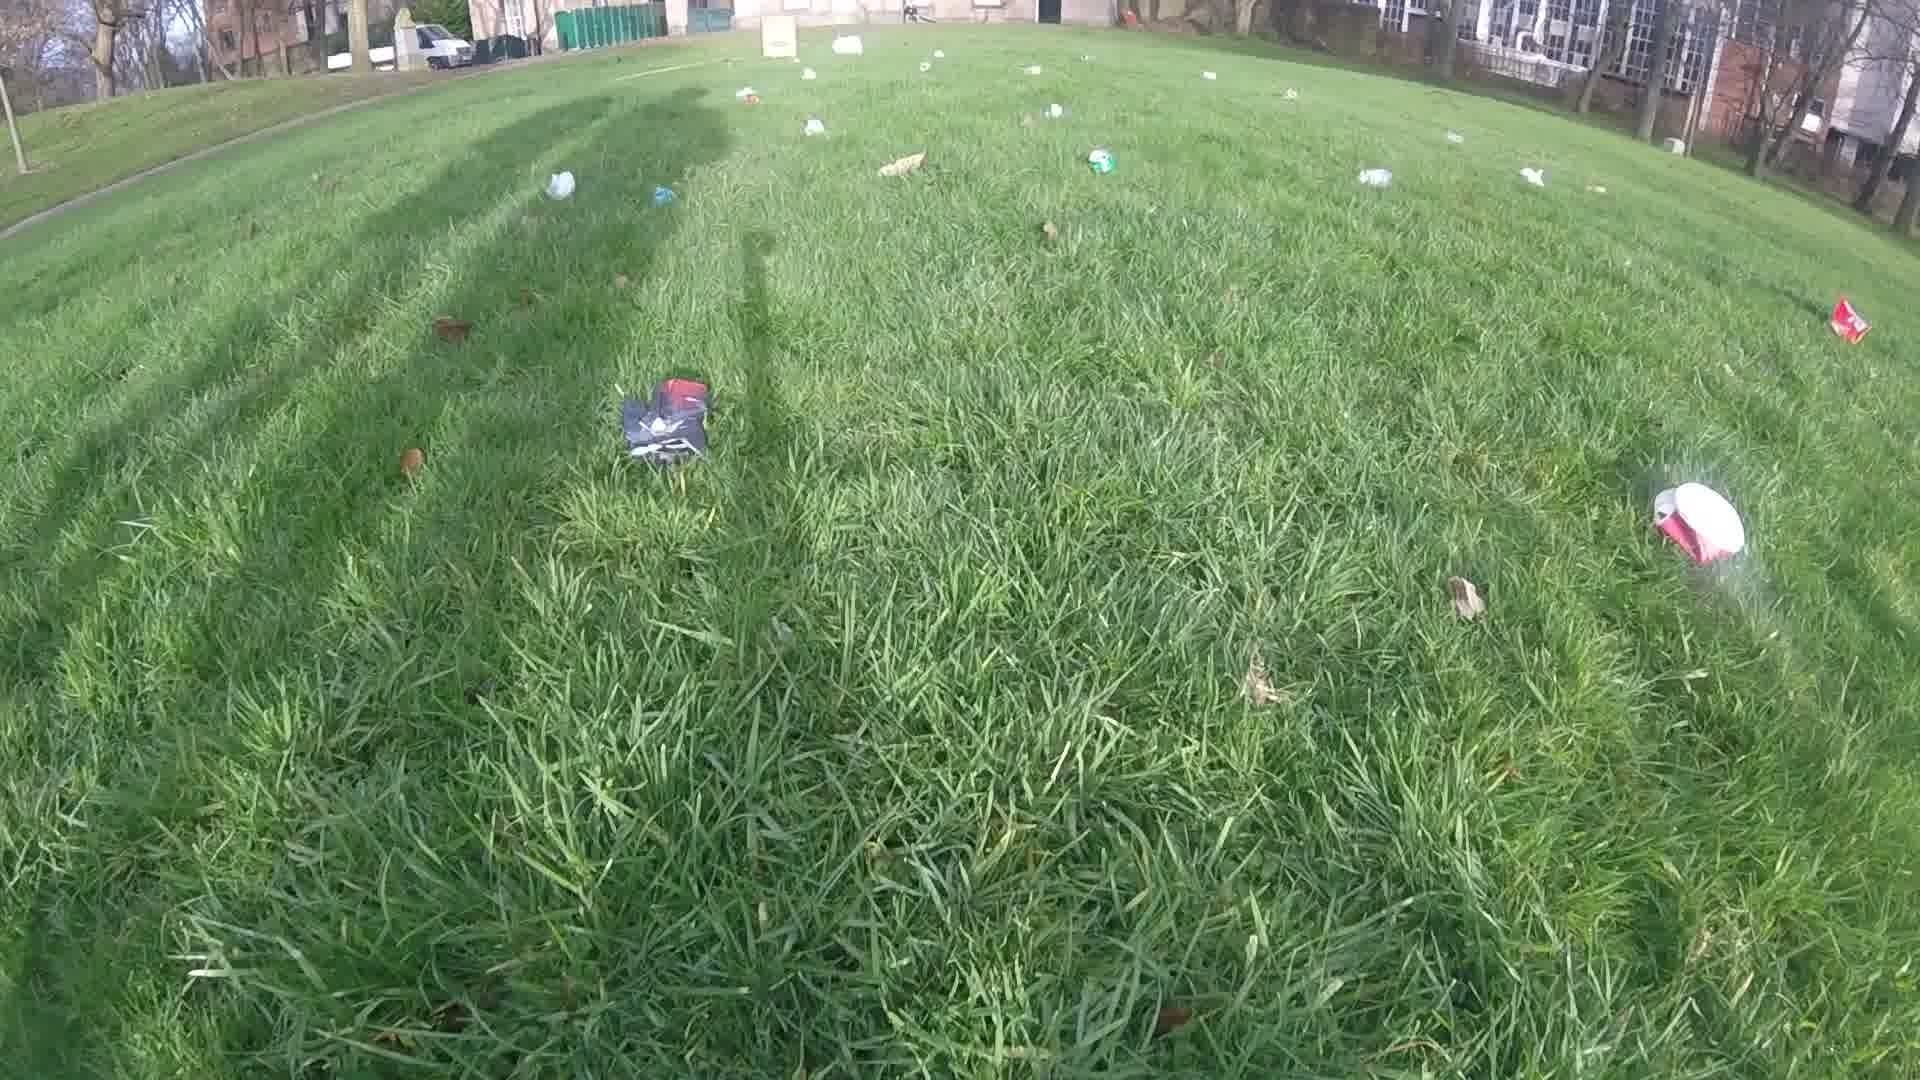litter: (1651, 480, 1746, 559), (626, 377, 709, 462), (1830, 294, 1871, 347), (764, 12, 798, 55), (1356, 165, 1395, 189), (874, 157, 924, 175), (545, 170, 574, 202), (1085, 146, 1116, 173), (831, 36, 865, 58), (1520, 166, 1549, 189), (802, 117, 825, 138), (650, 186, 674, 204), (735, 87, 760, 104), (799, 66, 822, 80), (1048, 102, 1062, 117), (1444, 135, 1466, 144), (1586, 185, 1605, 195), (928, 47, 947, 58), (1025, 66, 1040, 78), (1284, 88, 1298, 100), (916, 62, 931, 73), (1203, 73, 1218, 79)
